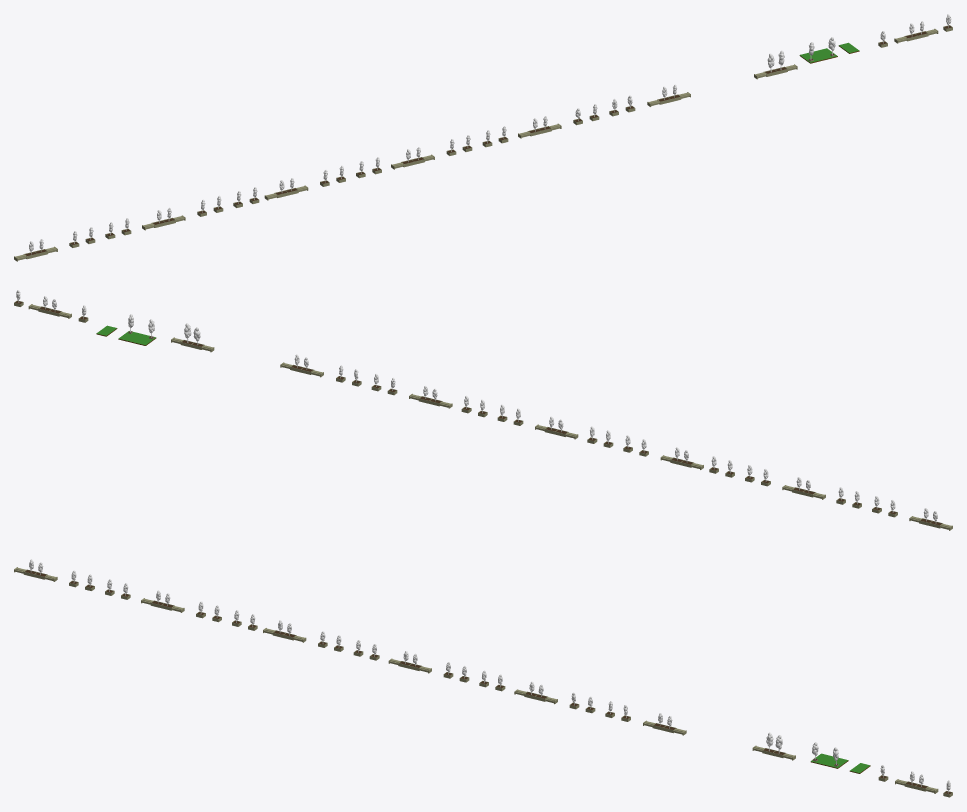
The model's file is G_Tree.fbx.
3 renders of one model, top to bottom at view 1: azimuth 30°, elevation 25°; view 2: azimuth 150°, elevation 25°; view 3: azimuth 330°, elevation 25°, orthographic.
Bounding box in the file's own units: 34177 × 744 × 973.
